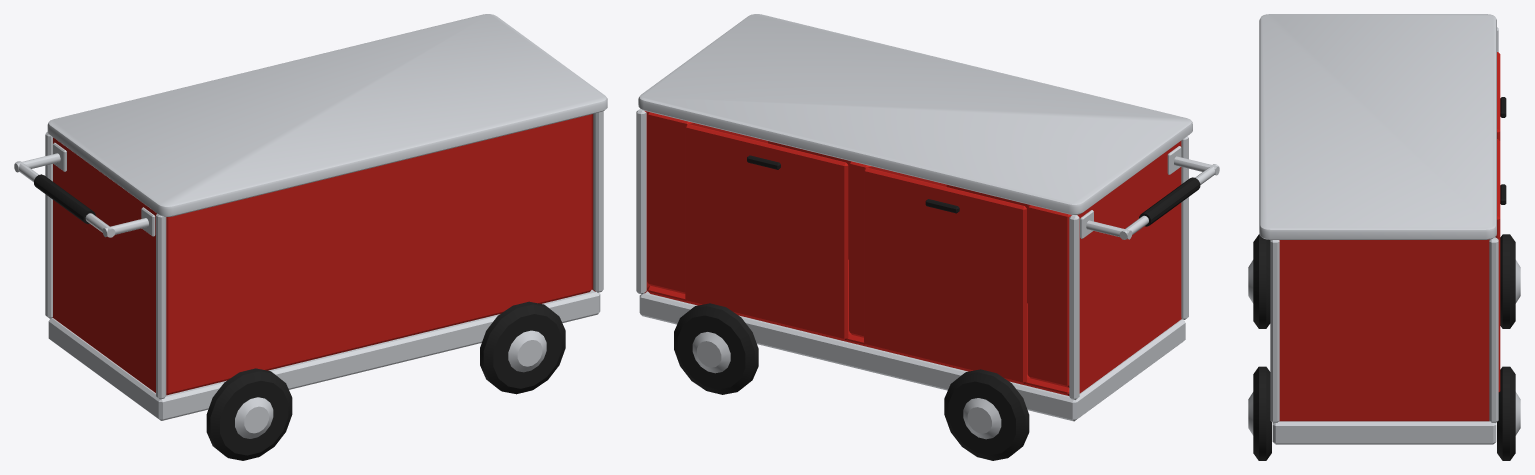
The model's file is barra_chica.glb.
3 renders of one model, left to right at view 1: azimuth 30°, elevation 25°; view 2: azimuth 150°, elevation 25°; view 3: azimuth 270°, elevation 25°, orthographic.
Parts seen in each view (by area): view 1: pieza_pintura, barra_chica_estructura; view 2: barra_chica_estructura, pieza_pintura, pieza_tapa_bahia_2, pieza_tapa_bahia_1; view 3: barra_chica_estructura, pieza_pintura, pieza_tapa_bahia_2, pieza_tapa_bahia_1.
Part boxes in pixels (x1,y1,x2,y2): pieza_pintura: (52,114,595,395); barra_chica_estructura: (14,14,607,460); barra_chica_estructura: (636,14,1219,460); pieza_pintura: (644,111,1181,395); pieza_tapa_bahia_2: (685,124,848,340); pieza_tapa_bahia_1: (864,167,1026,383); barra_chica_estructura: (1248,14,1520,460); pieza_pintura: (1279,239,1489,421); pieza_tapa_bahia_2: (1495,139,1506,392); pieza_tapa_bahia_1: (1497,52,1506,140).
Size of what is drawn, in the model's own units: 1.79 by 0.95 by 0.872.
